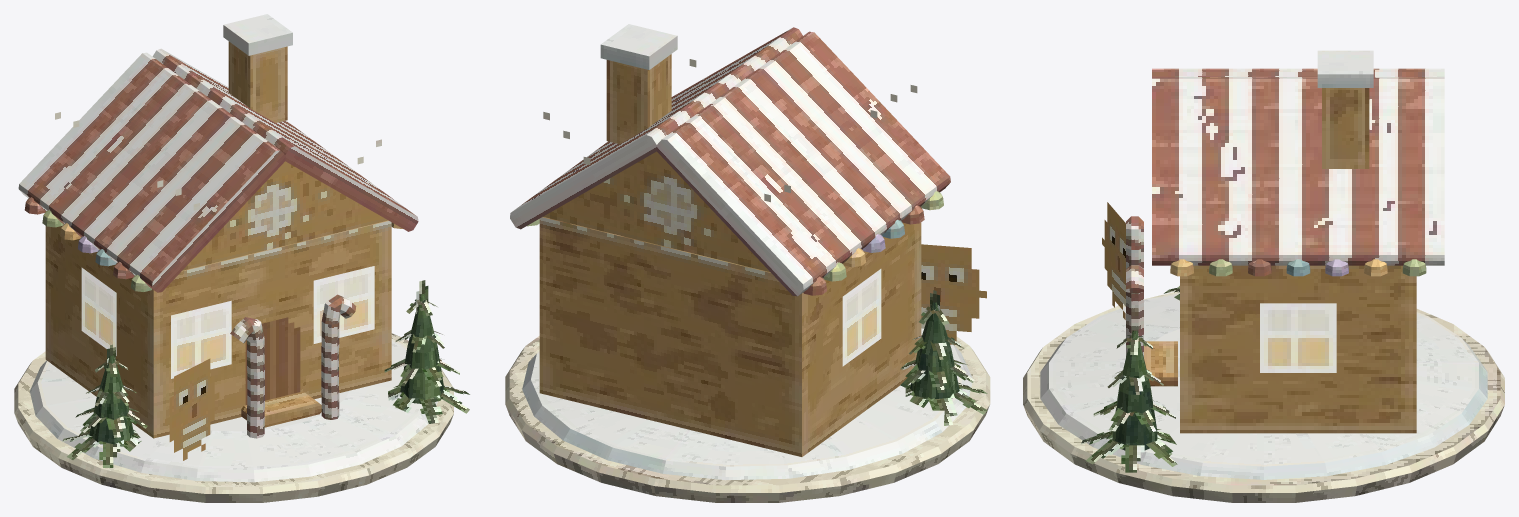
File: gingerbread_house.glb
The picture shows the model from 3 angles, left to right: view 1: azimuth 30°, elevation 25°; view 2: azimuth 150°, elevation 25°; view 3: azimuth 270°, elevation 25°; orthographic projection. The views are drawn at different scales.
Visible parts, largest first — view 1: static; view 2: static; view 3: static.
Part boxes in pixels (left/top/right/bottom): static: left=14, top=14, right=469, bottom=502; static: left=505, top=24, right=990, bottom=502; static: left=1023, top=50, right=1504, bottom=502.
Size of the model in its own units: 1.41 by 1.2 by 1.4.
Materials: 3 (3 with a texture image).
